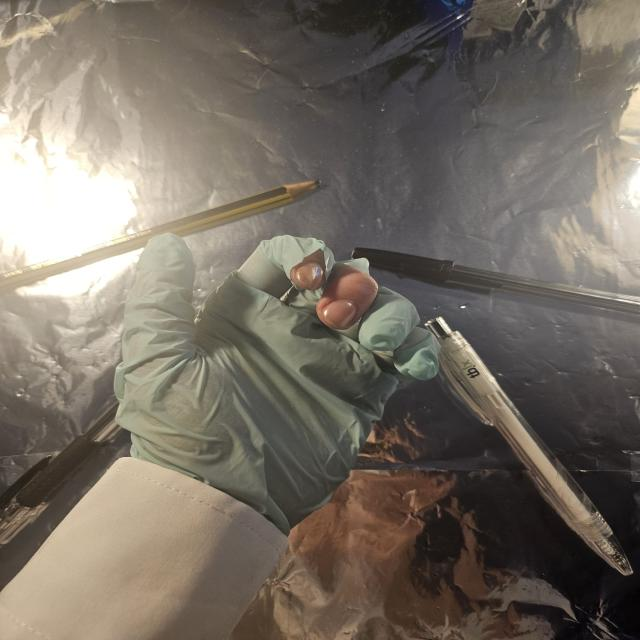gloves_damaged: (111, 230, 444, 542)
